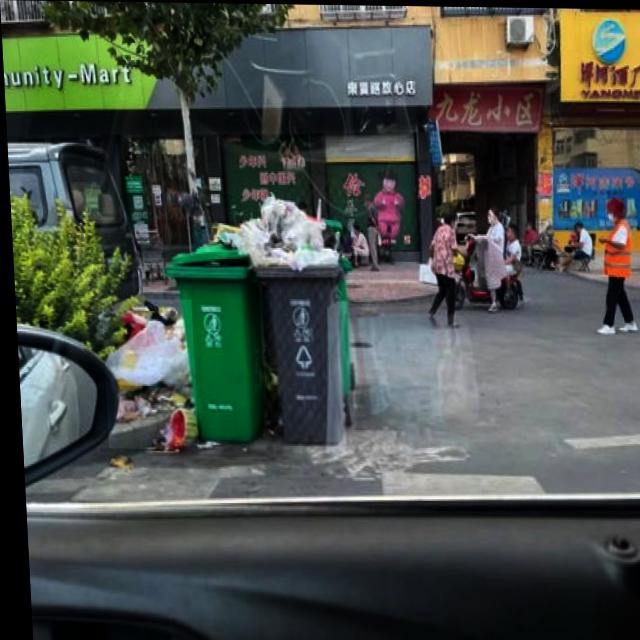garbage: (98, 298, 194, 449)
overflow: (247, 191, 344, 442), (157, 220, 262, 440)
